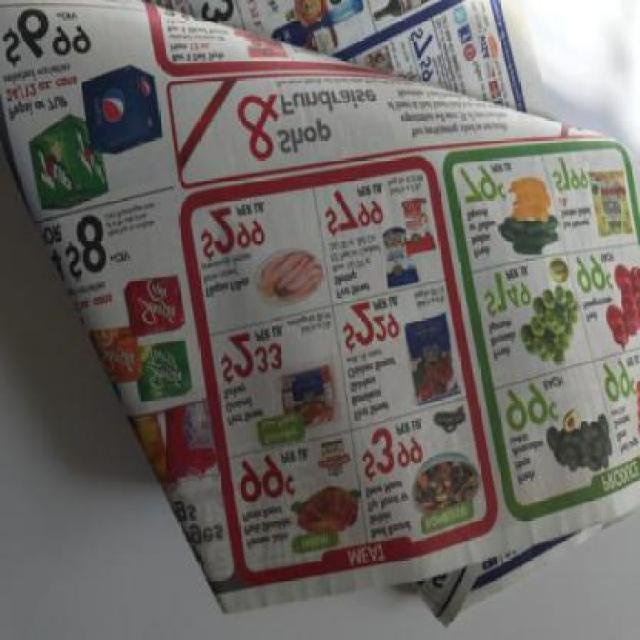paper: (1, 0, 638, 626)
